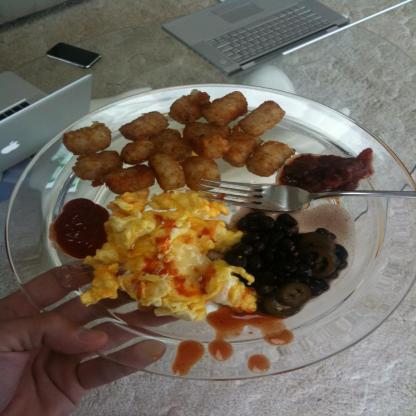board: (160, 0, 410, 78), (2, 72, 91, 172)
